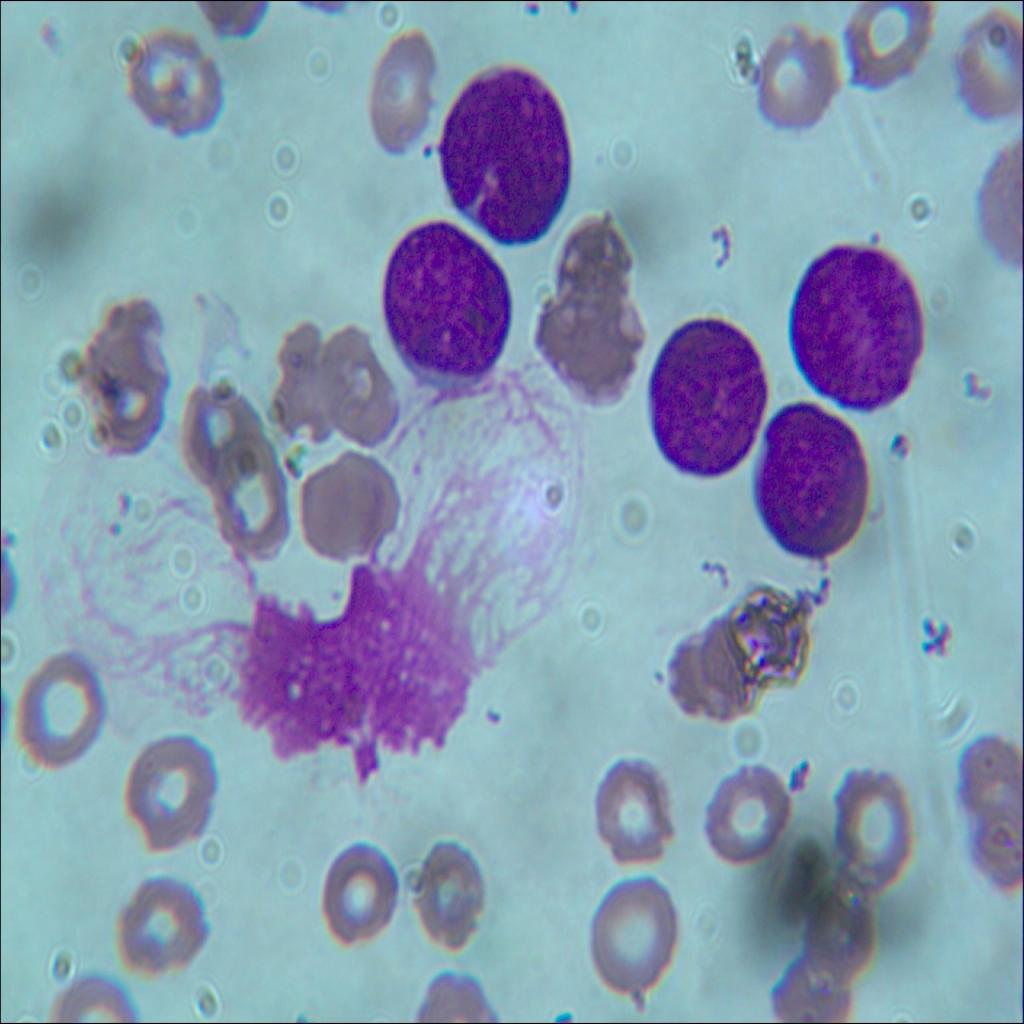Eritrosit: (82, 302, 175, 459), (114, 25, 231, 145), (544, 288, 644, 405), (299, 456, 403, 568), (124, 737, 226, 851), (582, 875, 675, 995), (21, 651, 111, 772), (110, 877, 218, 972), (213, 454, 303, 568), (750, 25, 846, 128), (270, 318, 344, 447), (731, 584, 813, 698), (363, 29, 436, 157), (658, 615, 748, 717), (706, 762, 786, 874), (322, 838, 403, 948), (846, 0, 928, 108), (409, 832, 486, 947), (598, 748, 675, 862), (314, 338, 398, 441), (828, 770, 906, 877), (943, 17, 1023, 118), (946, 718, 1024, 817), (554, 210, 634, 302), (763, 944, 851, 1023), (184, 391, 261, 477), (795, 888, 874, 970)
Limfoblast: (439, 61, 574, 252), (784, 232, 926, 401), (382, 224, 515, 395), (754, 401, 868, 574), (654, 322, 766, 472)
Platelet: (94, 511, 128, 545), (481, 702, 515, 735), (412, 127, 438, 162), (560, 0, 590, 26), (518, 0, 548, 18)
